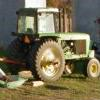Tractor: (10, 3, 100, 81)
